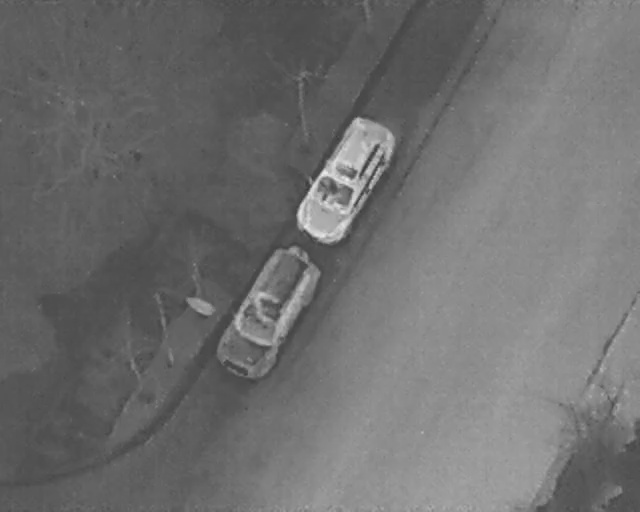Car: (208, 236, 329, 387), (288, 110, 402, 252)
